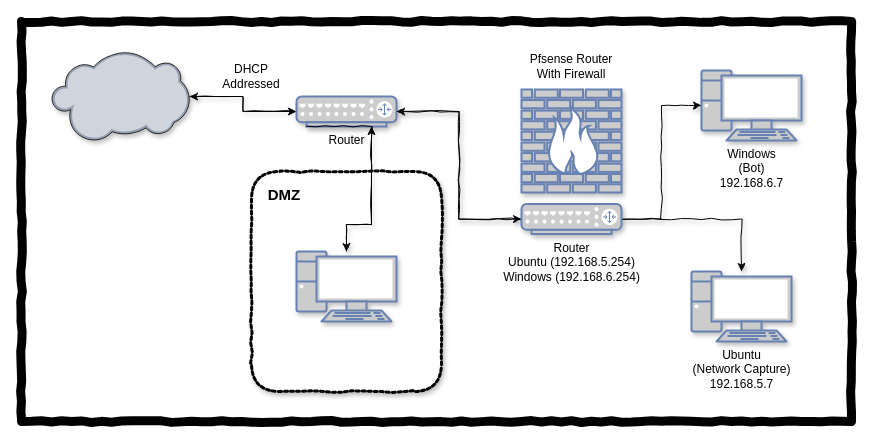
Some shapes in this 873 by 443 pixel diagram are drawn without their labels. The shapes that lost their labels are listed below. From the top down, each one's centre as x and y in pixels, then its label:
At (121,97): "Internet".
At (347,287): "Kali (Controller) DHCP Addressed".
